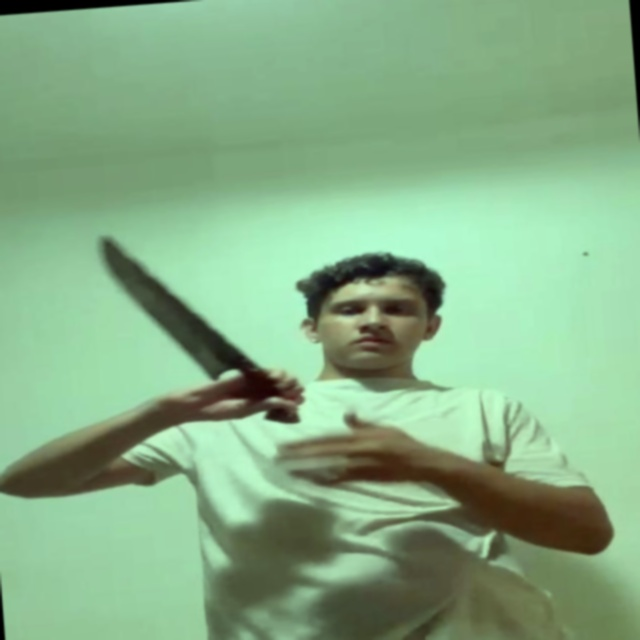Sharp-Object: (101, 224, 242, 383)
